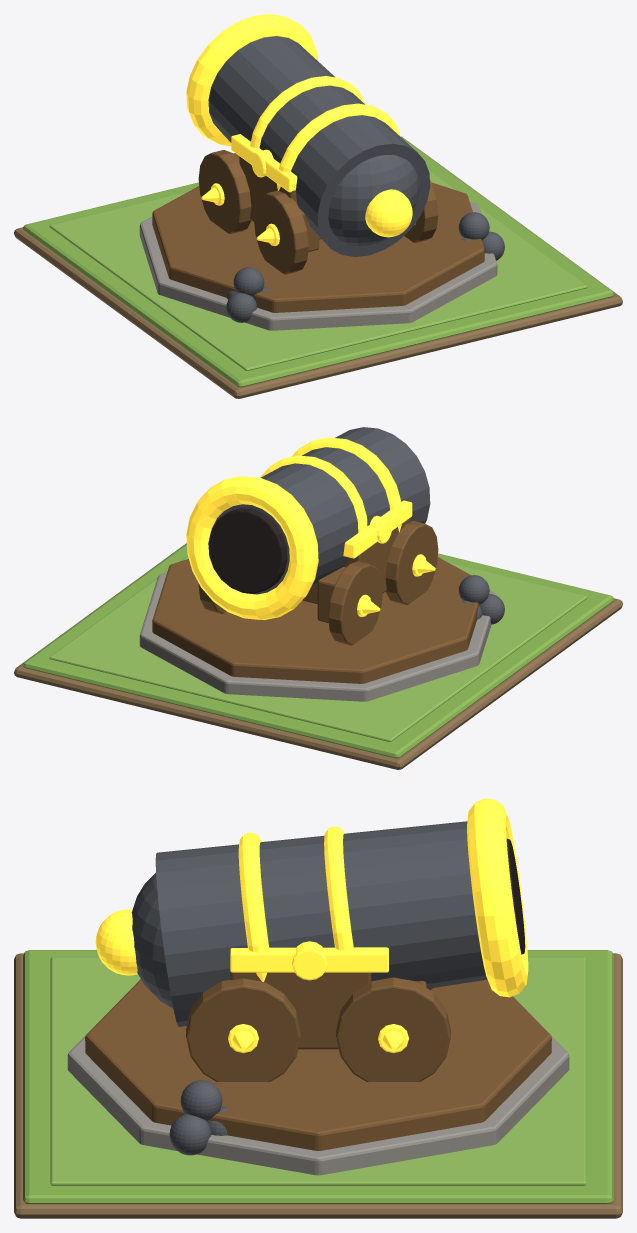
The model's file is cannon_lv4.glb.
The picture shows the model from 3 angles, top to bottom: view 1: azimuth 30°, elevation 25°; view 2: azimuth 150°, elevation 25°; view 3: azimuth 270°, elevation 25°; orthographic projection. The views are drawn at different scales.
Parts seen in each view (by area): view 1: TurntableWood, Base_Inner, CannonBarrel, Base_Grass, Base_Dirt, TurntableStone, CannonBreech, MuzzleLip, CannonWheel_-1_-1, CannonWheel_-1_1, RearBarrelBand, CascabelKnob (+8 smaller); view 2: TurntableWood, Base_Inner, Base_Grass, CannonBarrel, MuzzleLip, Base_Dirt, TurntableStone, BarrelBore, CannonWheel_-1_1, CannonWheel_-1_-1, RearBarrelBand, MidBarrelBand (+5 smaller); view 3: CannonBarrel, TurntableWood, Base_Inner, Base_Grass, Base_Dirt, TurntableStone, CannonWheel_1_1, CannonWheel_1_-1, MuzzleLip, CheekArmorPlate_1, CannonBreech, RearBarrelBand (+8 smaller).
Boxes of the visible parts, x1,y1,x2,y2 form: TurntableWood: [152, 182, 484, 312]; Base_Inner: [49, 170, 587, 370]; CannonBarrel: [208, 36, 430, 256]; Base_Grass: [23, 136, 613, 387]; Base_Dirt: [14, 136, 622, 398]; TurntableStone: [139, 202, 497, 330]; CannonBreech: [328, 155, 419, 246]; MuzzleLip: [186, 14, 318, 146]; CannonWheel_-1_-1: [254, 190, 308, 274]; CannonWheel_-1_1: [198, 150, 251, 233]; RearBarrelBand: [277, 103, 400, 190]; CascabelKnob: [365, 189, 412, 237]; TurntableWood: [152, 557, 479, 683]; Base_Inner: [49, 556, 587, 741]; Base_Grass: [23, 543, 613, 758]; CannonBarrel: [211, 427, 430, 594]; MuzzleLip: [186, 476, 318, 619]; Base_Dirt: [14, 543, 622, 769]; TurntableStone: [139, 573, 496, 701]; BarrelBore: [208, 508, 287, 593]; CannonWheel_-1_1: [328, 561, 382, 645]; CannonWheel_-1_-1: [385, 521, 438, 604]; RearBarrelBand: [291, 437, 401, 532]; MidBarrelBand: [260, 455, 367, 533]; CannonBarrel: [155, 821, 487, 1026]; TurntableWood: [85, 979, 551, 1150]; Base_Inner: [50, 957, 586, 1185]; Base_Grass: [23, 950, 613, 1203]; Base_Dirt: [14, 953, 622, 1218]; TurntableStone: [67, 982, 569, 1175]; CannonWheel_1_1: [336, 977, 450, 1081]; CannonWheel_1_-1: [186, 978, 300, 1081]; MuzzleLip: [467, 798, 528, 997]; CheekArmorPlate_1: [230, 947, 388, 972]; CannonBreech: [131, 872, 173, 1008]; RearBarrelBand: [238, 832, 269, 981].
Bounding box in the file's own units: 2.76 × 1.42 × 2.76.
